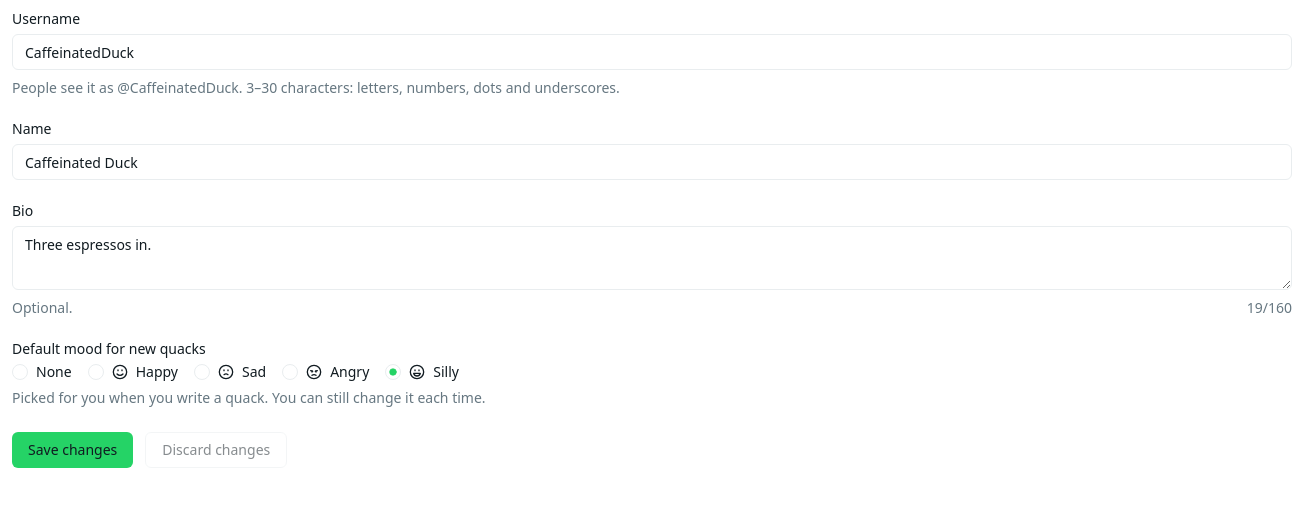
Scenario: ProfileForm › says a taken username next to the field and keeps what was typed
Replace the text in the field labelled "Username" with "PondAdmin": (652,52) [12, 34, 1292, 70]
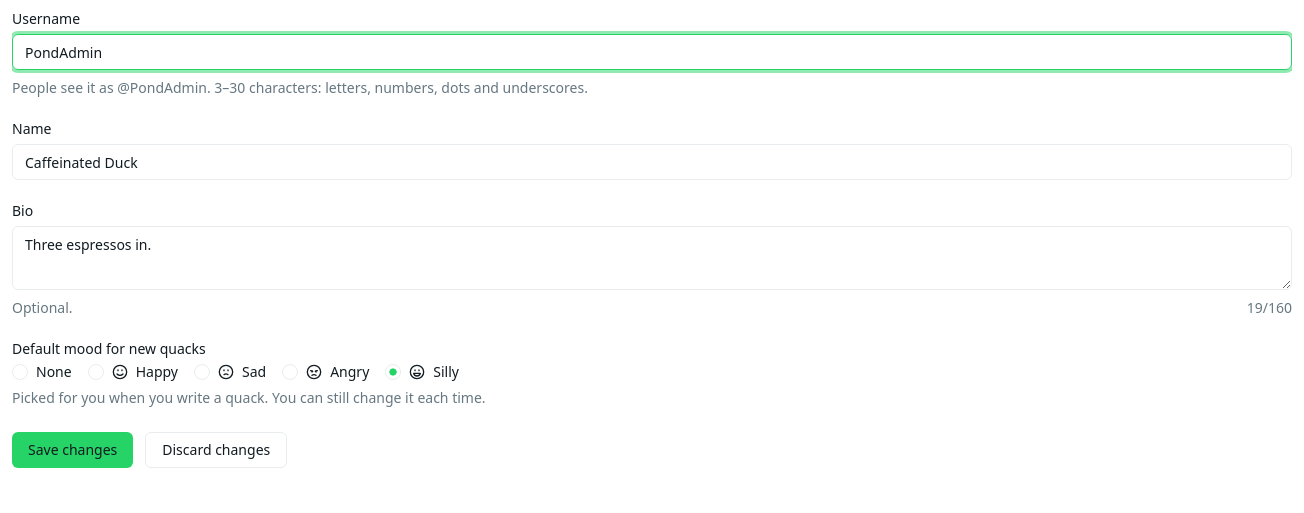
Click the button "Save changes": (73,450) [12, 432, 133, 468]
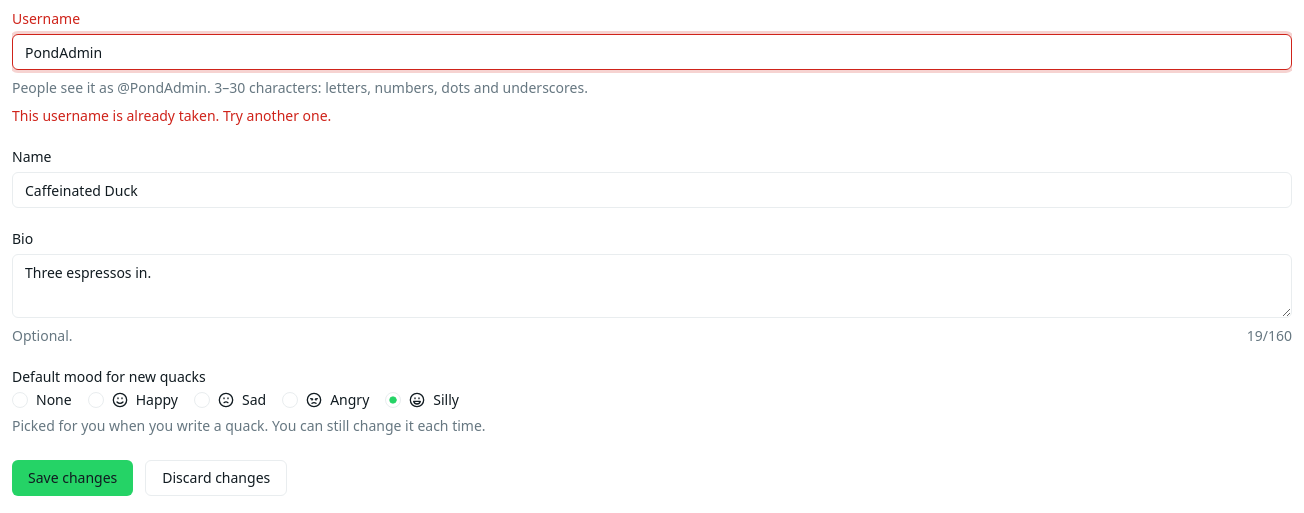
Expected: the text "This username is already taken. Try another one." is shown, [12, 106, 331, 125]
